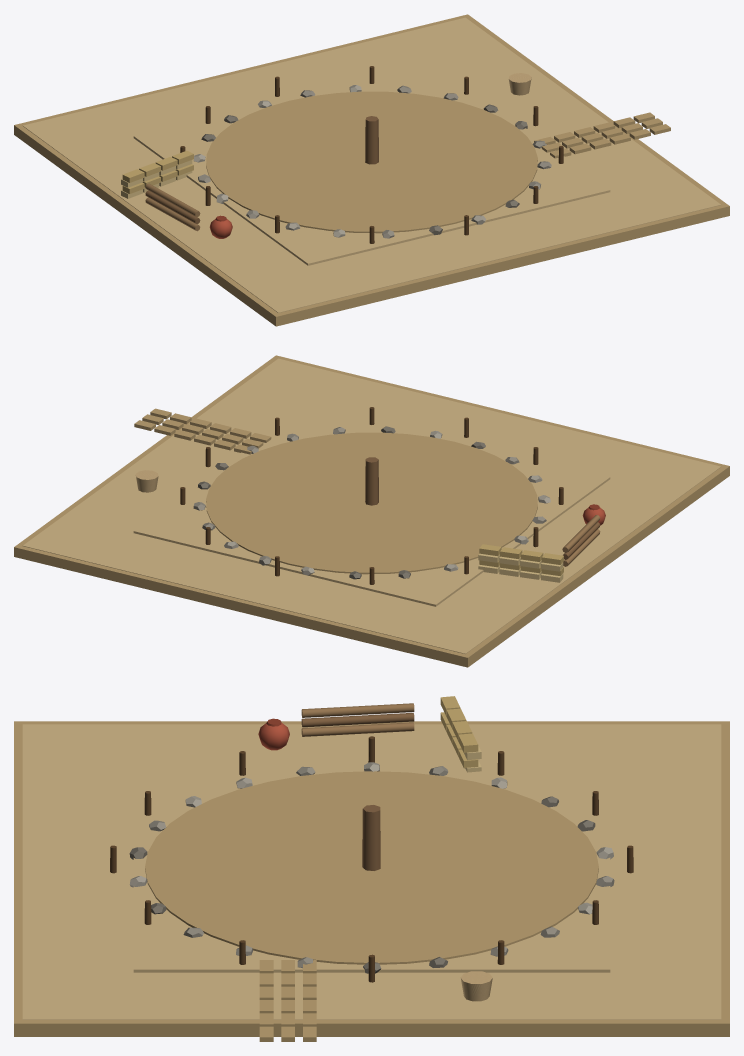
Rendered from rad-2-construction.glb.
3 views of the same model, one above another, from view 1: azimuth 30°, elevation 25°; view 2: azimuth 150°, elevation 25°; view 3: azimuth 270°, elevation 25° (orthographic). The views are drawn at different scales.
Bounding box in the file's own units: 21.9 × 2.44 × 20.5.
Materials: 13 (1 with a texture image).
